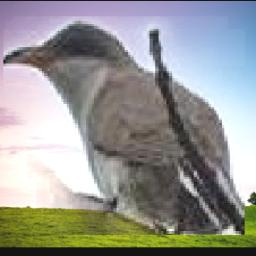Cuckoo: (2, 17, 244, 236)
